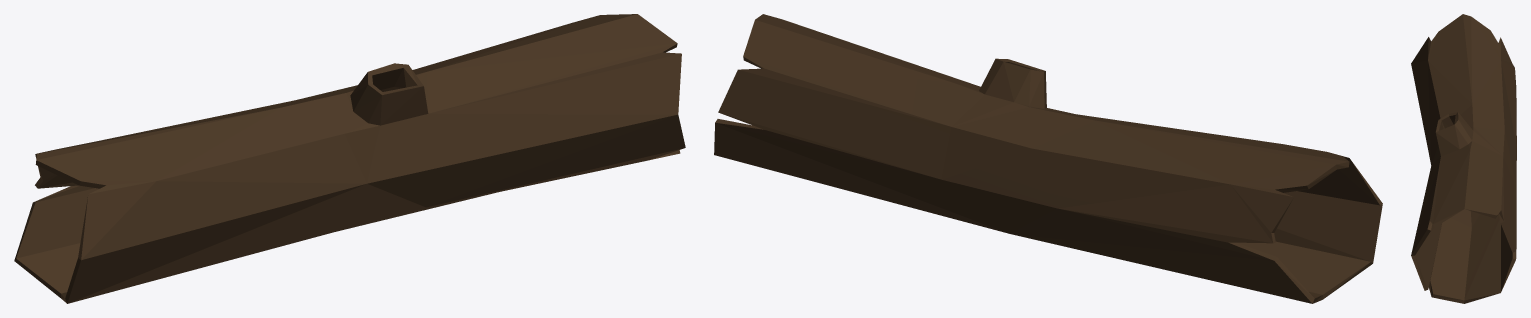
File: Log.fbx
3 renders of one model, left to right at view 1: azimuth 30°, elevation 25°; view 2: azimuth 150°, elevation 25°; view 3: azimuth 270°, elevation 25°, orthographic. The views are drawn at different scales.
Visible parts, largest first — view 1: Log; view 2: Log; view 3: Log.
Part boxes in pixels (bbox=[...]): Log: bbox=[14, 14, 685, 303]; Log: bbox=[714, 14, 1382, 303]; Log: bbox=[1411, 14, 1516, 303].
Size of the model in its own units: 3.78 by 0.9236 by 0.8476.
